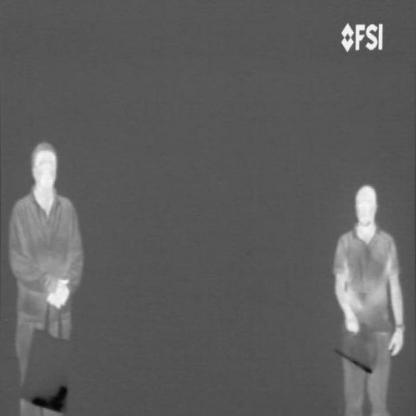weapon: (30, 383, 69, 414)
